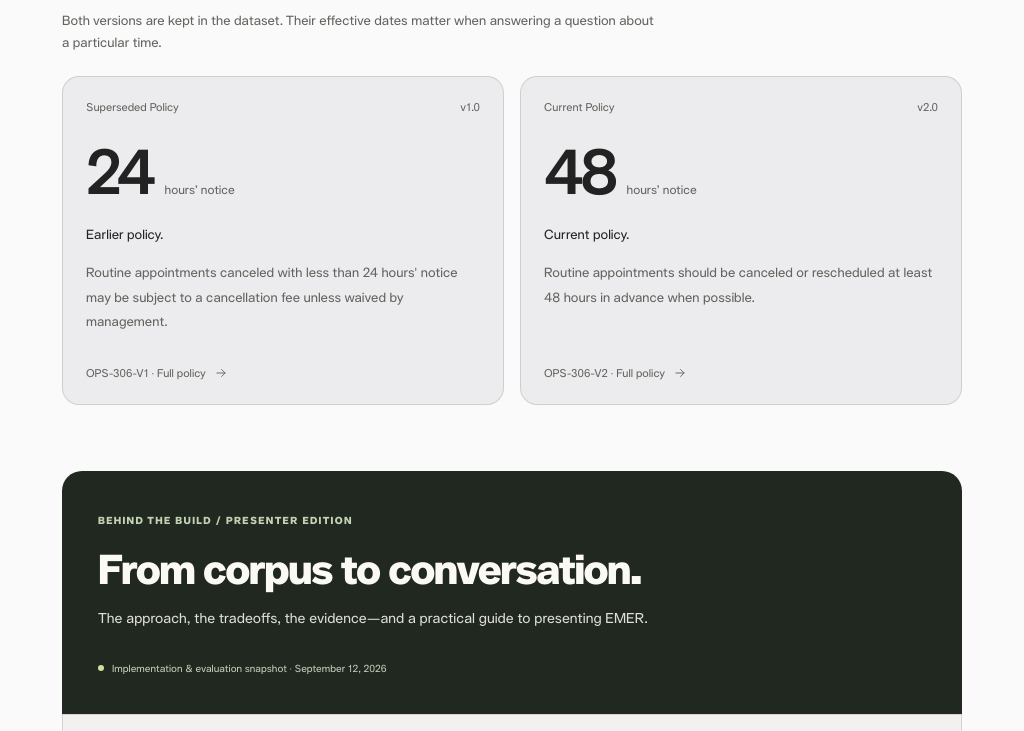
Test: Single-page dataset › retains exact policy modality and version metadata in the full source view
(page scrolled)
Click the button "OPS-306-V2 · Full policy": point(616, 369) x1=544 y1=358 x2=687 y2=381
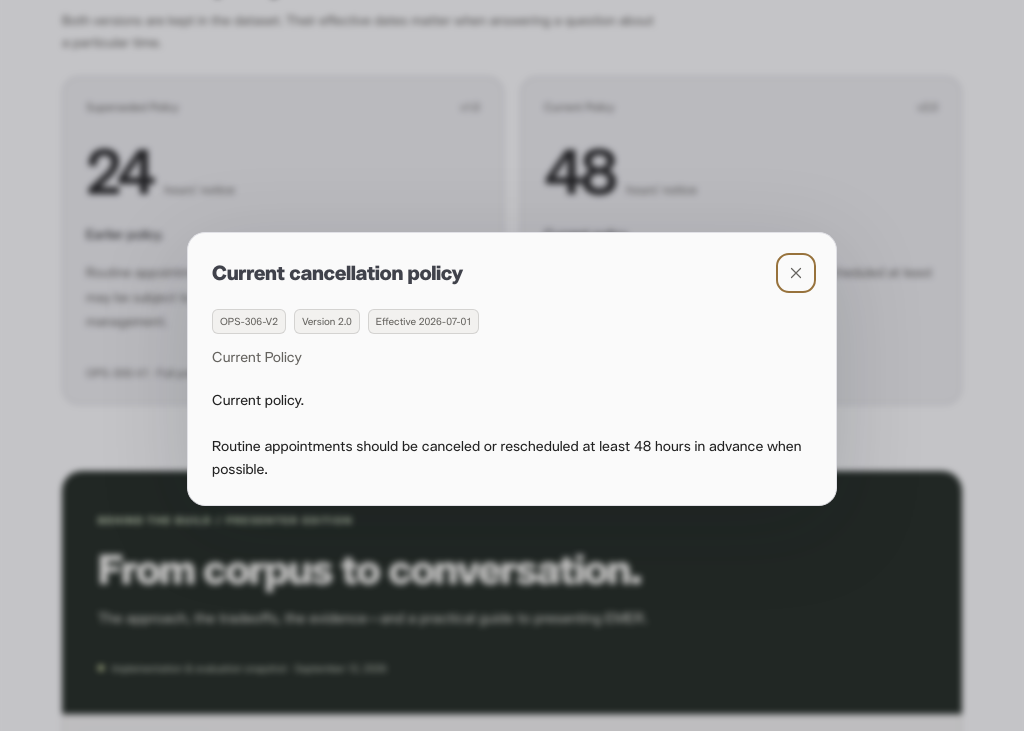
Now the text "Version 2.0" is shown, box x1=294 y1=309 x2=360 y2=334
Now the text "Effective 2026-07-01" is shown, box x1=368 y1=309 x2=479 y2=334
Now the text "Current Policy" is shown, box x1=212 y1=348 x2=302 y2=366
